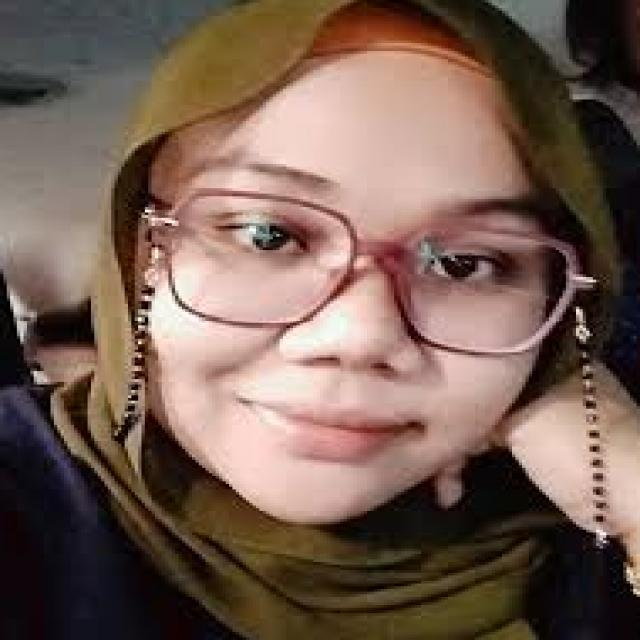Glasses: (145, 180, 603, 360)
